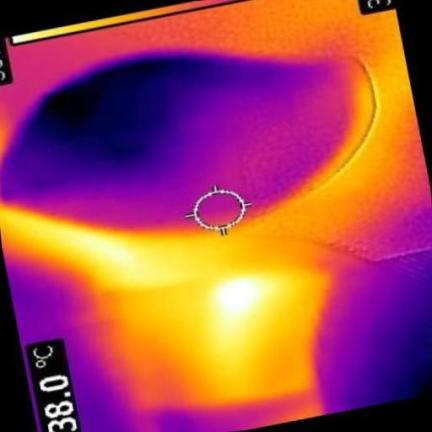mango: (1, 56, 373, 230)
